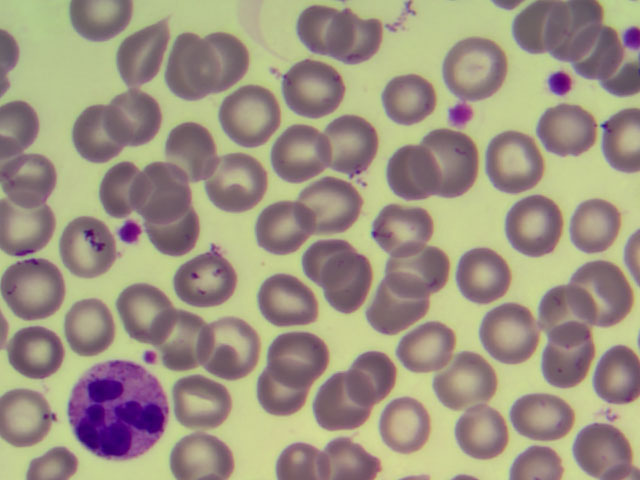Platelets: (537, 69, 582, 98), (442, 104, 477, 124), (119, 218, 138, 245), (621, 24, 640, 51), (145, 348, 160, 367)
RBC: (264, 416, 326, 480), (108, 23, 170, 86), (159, 38, 221, 101), (217, 28, 279, 91), (216, 79, 278, 142), (167, 116, 229, 179), (146, 164, 208, 227), (145, 204, 207, 267), (96, 153, 158, 216), (57, 102, 119, 165), (105, 82, 167, 145), (6, 149, 68, 212), (4, 192, 66, 255), (57, 216, 119, 279), (6, 251, 68, 314), (1, 318, 63, 381), (50, 292, 112, 355), (112, 286, 174, 349), (134, 305, 196, 368), (180, 253, 242, 316), (193, 310, 255, 373), (178, 364, 240, 427), (173, 413, 235, 476), (302, 373, 364, 436), (340, 356, 402, 419), (250, 362, 312, 425), (265, 321, 327, 384), (247, 266, 309, 329), (312, 255, 374, 318), (298, 232, 360, 295), (243, 192, 305, 255), (298, 172, 360, 235), (265, 122, 327, 185), (315, 107, 377, 170), (285, 62, 347, 125), (333, 9, 395, 72), (306, 7, 368, 70), (376, 70, 438, 133), (433, 129, 495, 192), (371, 149, 433, 212), (368, 193, 430, 256), (391, 231, 453, 294), (360, 281, 422, 344), (453, 244, 515, 307), (510, 197, 572, 260), (490, 134, 552, 197), (533, 100, 595, 163), (578, 107, 640, 170), (564, 191, 626, 254), (576, 269, 638, 332), (530, 272, 592, 335), (538, 322, 600, 385), (473, 303, 535, 366), (445, 345, 507, 408), (390, 314, 452, 377), (451, 395, 513, 458), (517, 390, 579, 453), (561, 407, 623, 470), (578, 340, 640, 403), (381, 398, 443, 461), (1, 383, 62, 446)
WBC: (68, 362, 169, 461)
